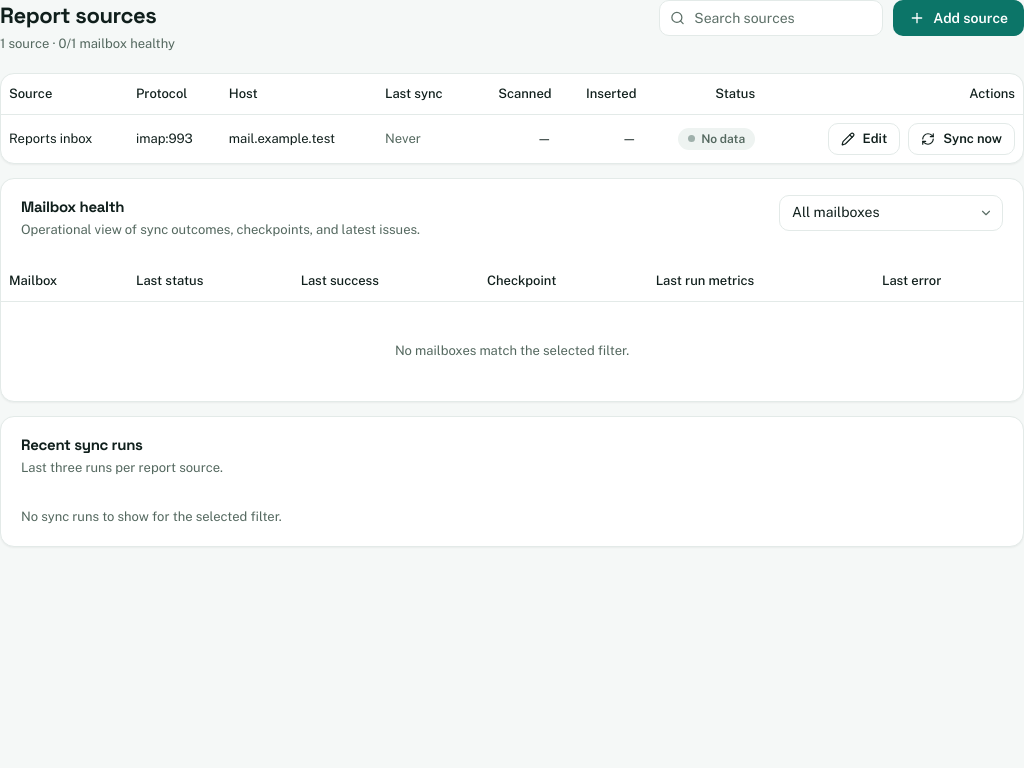
Test: manual sync status › renders failure status with error text and attempt count
Step 1. Click the button "Sync now" → point(962, 139), box [908,123,1015,155]
Wait 35000 ms
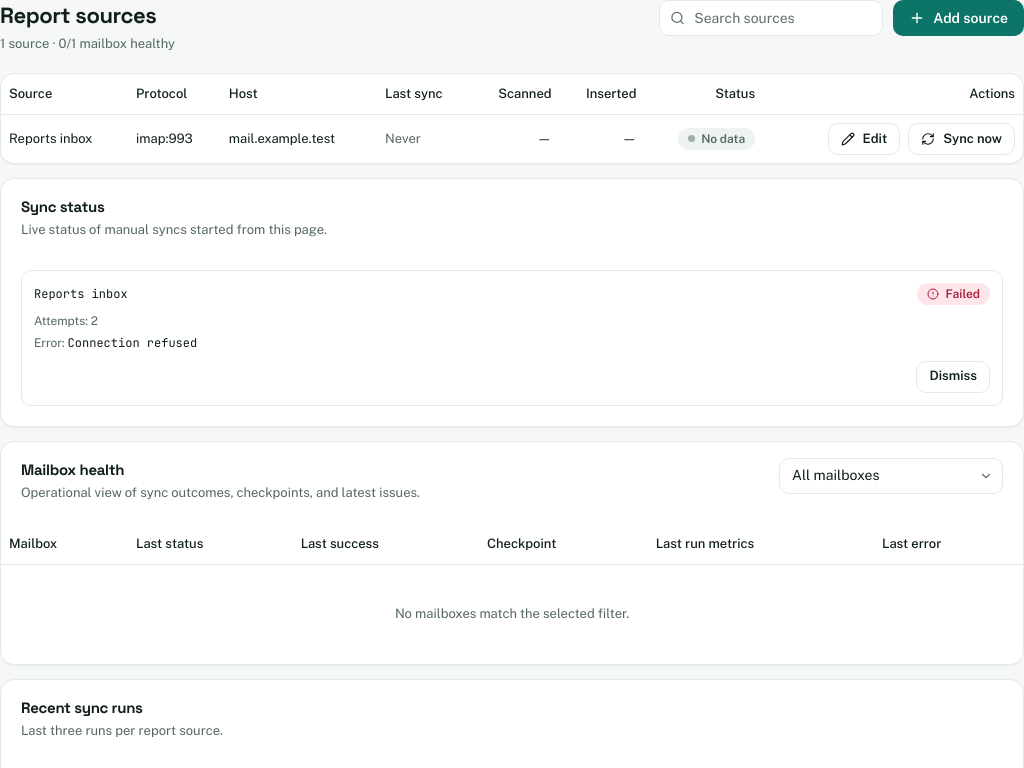
Expected: the text "Failed" is shown, [917,283,990,305]
Expected: the text "Connection refused" is shown, [68,335,197,351]
Expected: the text "Attempts: 2" is shown, [34,314,98,328]
